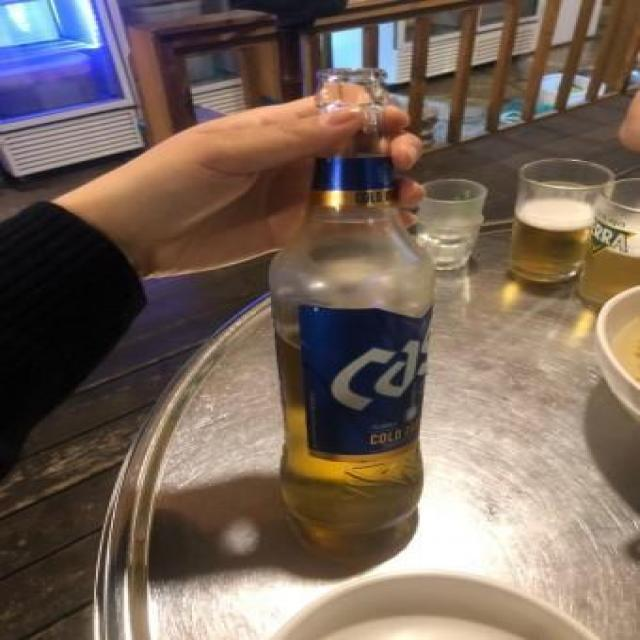beer-bottle: (282, 0, 428, 541)
